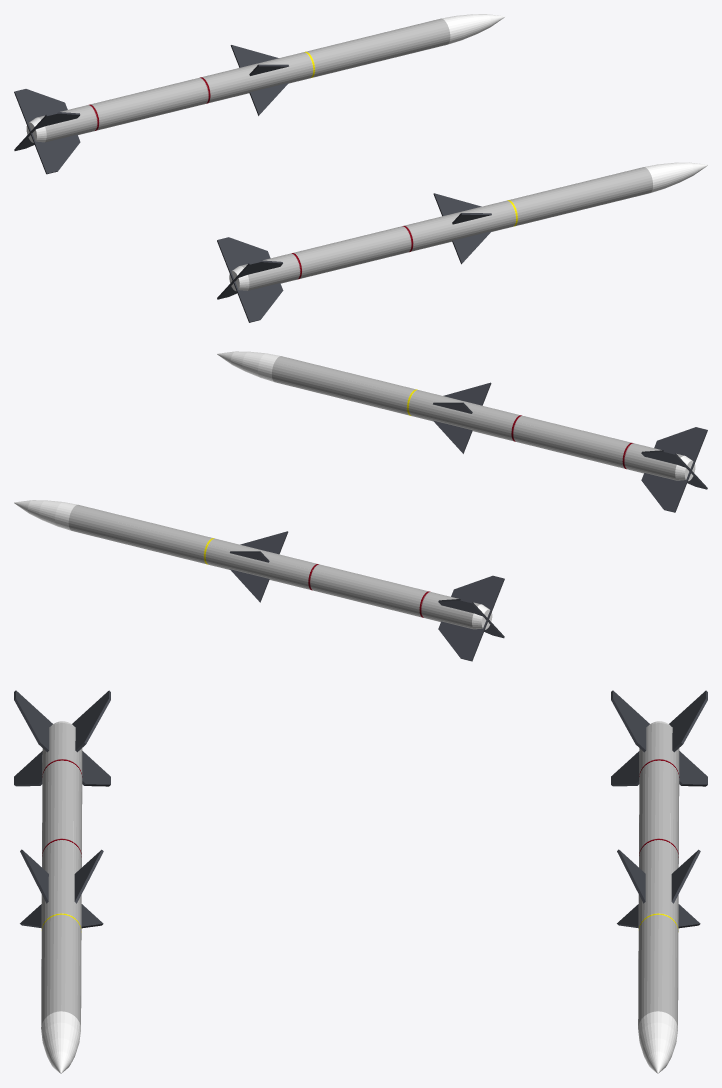
File: f15eaim12089.glb
3 views of the same model, one above another, from view 1: azimuth 30°, elevation 25°; view 2: azimuth 150°, elevation 25°; view 3: azimuth 270°, elevation 25° (orthographic). The views are drawn at different scales.
Visible parts, largest first — view 1: 円柱.003, 円柱.006; view 2: 円柱.003, 円柱.006; view 3: 円柱.003, 円柱.006.
Boxes of the visible parts, <box> form: 円柱.003: <box>217,162,707,322</box>; 円柱.006: <box>14,14,504,174</box>; 円柱.003: <box>217,351,707,512</box>; 円柱.006: <box>14,500,504,661</box>; 円柱.003: <box>14,690,110,1073</box>; 円柱.006: <box>611,690,707,1073</box>.
Bounding box in the file's own units: 4.39 × 0.5295 × 3.78.
4 materials, 4 textured.
